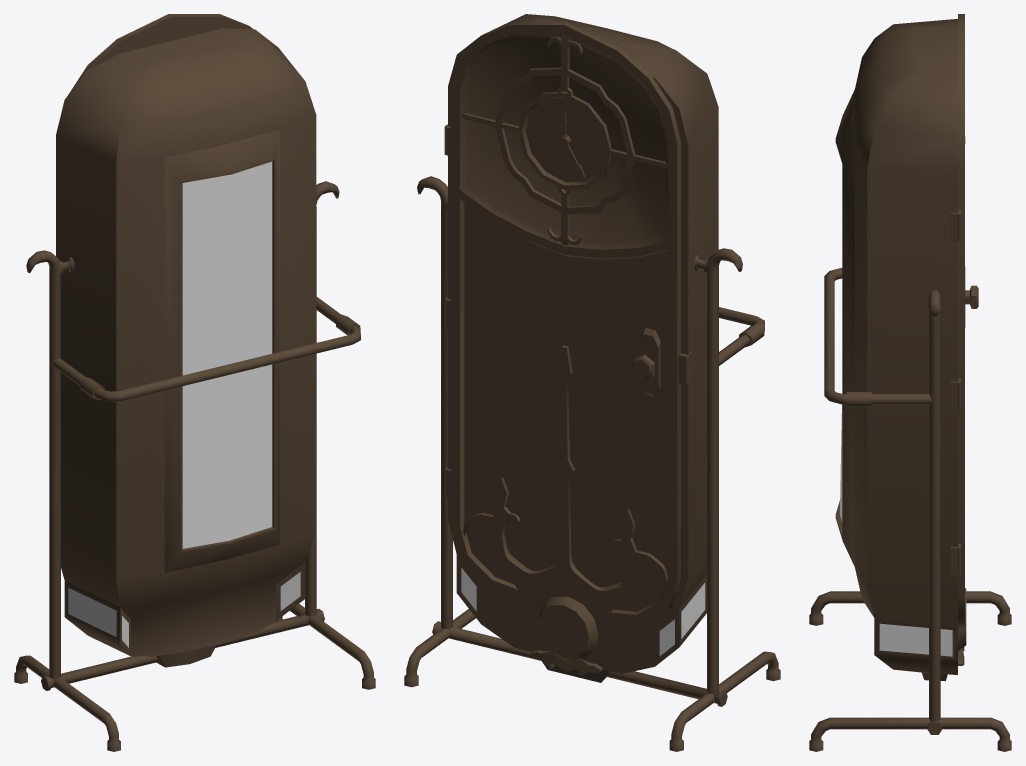
File: TP2_Forget_Caroline_Low_Poly.fbx
3 renders of one model, left to right at view 1: azimuth 30°, elevation 25°; view 2: azimuth 150°, elevation 25°; view 3: azimuth 270°, elevation 25°, orthographic. The views are drawn at different scales.
Visible parts, largest first — view 1: LowPoly, Vitre.001, Support.001, Porte.001; view 2: Porte.001, LowPoly, Support.001, Vitre.001; view 3: LowPoly, Support.001, Porte.001, Vitre.001.
Boxes of the visible parts, box(x1,y1,x2,y2) form: LowPoly: box(56, 28, 316, 667); Vitre.001: box(68, 161, 300, 647); Support.001: box(14, 181, 375, 751); Porte.001: box(68, 14, 252, 94); Porte.001: box(444, 22, 680, 624); LowPoly: box(448, 14, 718, 682); Support.001: box(404, 176, 780, 751); Vitre.001: box(461, 567, 705, 655); LowPoly: box(835, 19, 966, 681); Support.001: box(809, 268, 1011, 751); Porte.001: box(950, 14, 978, 629); Vitre.001: box(840, 405, 952, 656).
Bounding box in the file's own units: 127 × 255 × 70.89.
